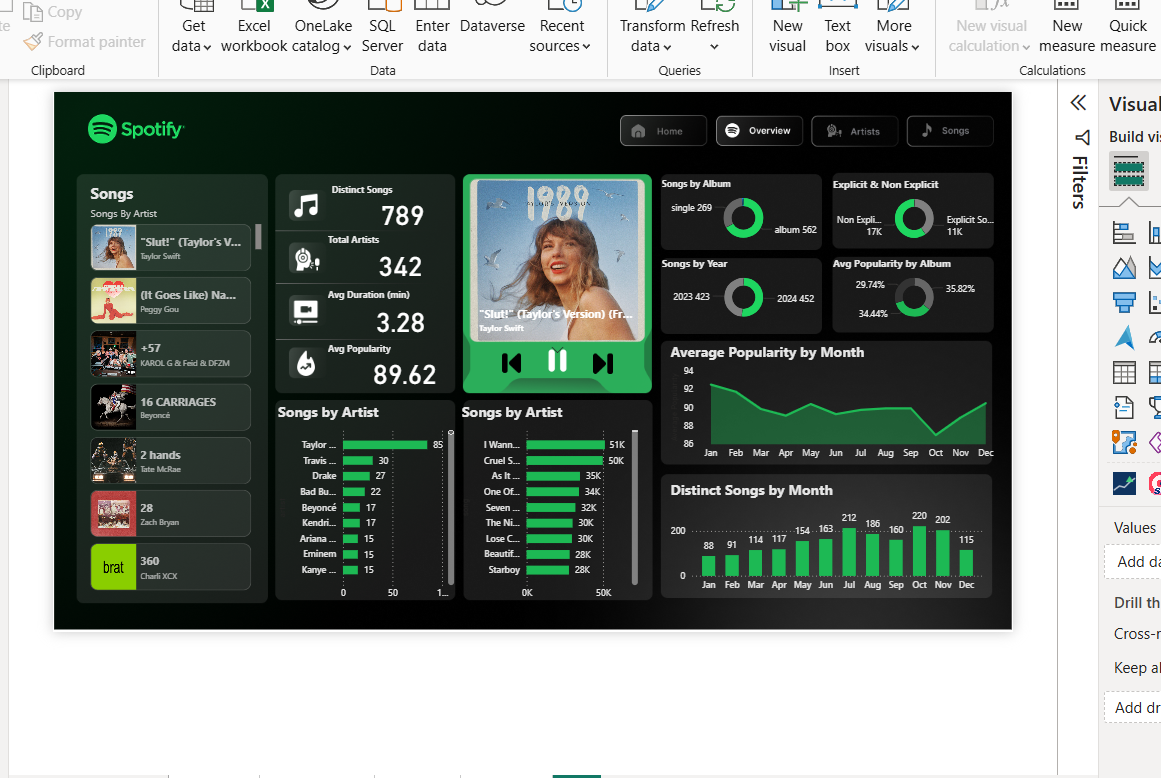

What the dashboard file says about the page in this screenshot:
{"tool":"powerbi","page":{"name":"Overview","canvas":[1280,720],"ordinal":1},"visuals":[{"type":"clusteredBarChart","title":"Songs by Artist","fields":{"Category":["Spotify-Top-50-World.artist"],"Y":["'Measures'.Distinct Songs"]},"box":[295,413.3,245,273.3],"z":0},{"type":"clusteredBarChart","title":"Songs by Artist","fields":{"Category":["Spotify-Top-50-World.song"],"Y":["Sum(Spotify-Top-50-World.popularity)"]},"box":[540,413.3,245,273.3],"z":1000},{"type":"areaChart","fields":{"Y":["'Measures'.Average Popularity"],"Category":["Top-50-World.Month"]},"box":[819,332.9,443.8,165.6],"z":2000},{"type":"donutChart","title":"Songs by Album","fields":{"Category":["Top-50-World.album_type"],"Y":["'Measures'.Distinct Songs"]},"box":[806.7,113.3,228.3,93.3],"z":3000},{"type":"donutChart","title":"Explicit & Non Explicit","fields":{"Y":["'Measures'.Explicit Songs","'Measures'.Non Explicit Songs"]},"box":[1035.6,112.7,227.2,93.3],"z":4000},{"type":"donutChart","title":"Songs by Year","fields":{"Y":["'Measures'.Distinct Songs"],"Category":["Top-50-World.Year"]},"box":[806.7,218.4,229,93.3],"z":5000},{"type":"donutChart","title":"Avg Popularity by Album","fields":{"Category":["Top-50-World.album_type"],"Y":["'Measures'.Average Popularity"]},"box":[1035.6,218.4,227.2,93.3],"z":6000},{"type":"columnChart","fields":{"Y":["'Measures'.Distinct Songs"],"Category":["Top-50-World.Month"]},"box":[819,516.1,426.2,158.5],"z":7000},{"type":"image","box":[321.2,133.8,31.2,36.2],"z":8000},{"type":"image","box":[321.2,206.2,35,32.5],"z":9000},{"type":"image","box":[318.8,275,37.5,37.5],"z":10000},{"type":"image","box":[318.8,345,48.8,33.8],"z":11000},{"type":"advancedSlicerVisual","title":"Songs","fields":{"Values":["Top-50-World.song"]},"box":[549.9,89.9,245.4,269.6],"z":12000},{"type":"advancedSlicerVisual","title":"Songs","fields":{"Values":["Top-50-World.song"]},"box":[44.3,122,238.7,552.6],"z":13000},{"type":"image","box":[626.3,343.3,92.5,29.5],"z":14000},{"type":"image","box":[697.4,346,73.8,30.8],"z":15000},{"type":"image","box":[587.4,346,49.6,29.5],"z":16000},{"type":"actionButton","box":[754.7,31.9,114.2,40],"z":17000},{"type":"actionButton","box":[883.1,31.9,112.1,40],"z":18000},{"type":"actionButton","box":[1009.4,32.4,114.2,40],"z":19000},{"type":"actionButton","box":[1136.2,31.9,112.6,40],"z":20000},{"type":"card","title":"Distinct Songs","fields":{"Values":["'Measures'.Distinct Songs"]},"box":[371.7,121.7,188.3,60],"z":20001},{"type":"card","title":"Total Artists","fields":{"Values":["Count(Top-50-World.artist)"]},"box":[366.7,188.3,193.3,61.7],"z":20002},{"type":"card","title":"Avg Duration (min)","fields":{"Values":["'Measures'.Average Duration (min)"]},"box":[366.7,261.7,193.3,65],"z":20003},{"type":"card","title":"Avg Popularity","fields":{"Values":["'Measures'.Average Popularity"]},"box":[366.7,333.3,205,60],"z":20004}]}

Visuals, with their boxes on the page's 1280x720 design canvas (x1, y1, x2, y2). These are canvas units, not pixel positions in the 1161x778 screenshot, which may show the page scaled, cropped or inside an application window:
"Songs by Artist" clusteredBarChart: x1=295, y1=413, x2=540, y2=687
"Songs by Artist" clusteredBarChart: x1=540, y1=413, x2=785, y2=687
areaChart - 'Measures'.Average Popularity x Top-50-World.Month: x1=819, y1=333, x2=1263, y2=498
"Songs by Album" donutChart: x1=807, y1=113, x2=1035, y2=207
"Explicit & Non Explicit" donutChart: x1=1036, y1=113, x2=1263, y2=206
"Songs by Year" donutChart: x1=807, y1=218, x2=1036, y2=312
"Avg Popularity by Album" donutChart: x1=1036, y1=218, x2=1263, y2=312
columnChart - 'Measures'.Distinct Songs x Top-50-World.Month: x1=819, y1=516, x2=1245, y2=675
image: x1=321, y1=134, x2=352, y2=170
image: x1=321, y1=206, x2=356, y2=239
image: x1=319, y1=275, x2=356, y2=312
image: x1=319, y1=345, x2=368, y2=379
"Songs" advancedSlicerVisual: x1=550, y1=90, x2=795, y2=360
"Songs" advancedSlicerVisual: x1=44, y1=122, x2=283, y2=675
image: x1=626, y1=343, x2=719, y2=373
image: x1=697, y1=346, x2=771, y2=377
image: x1=587, y1=346, x2=637, y2=376
actionButton: x1=755, y1=32, x2=869, y2=72
actionButton: x1=883, y1=32, x2=995, y2=72
actionButton: x1=1009, y1=32, x2=1124, y2=72
actionButton: x1=1136, y1=32, x2=1249, y2=72
"Distinct Songs" card: x1=372, y1=122, x2=560, y2=182
"Total Artists" card: x1=367, y1=188, x2=560, y2=250
"Avg Duration (min)" card: x1=367, y1=262, x2=560, y2=327
"Avg Popularity" card: x1=367, y1=333, x2=572, y2=393
